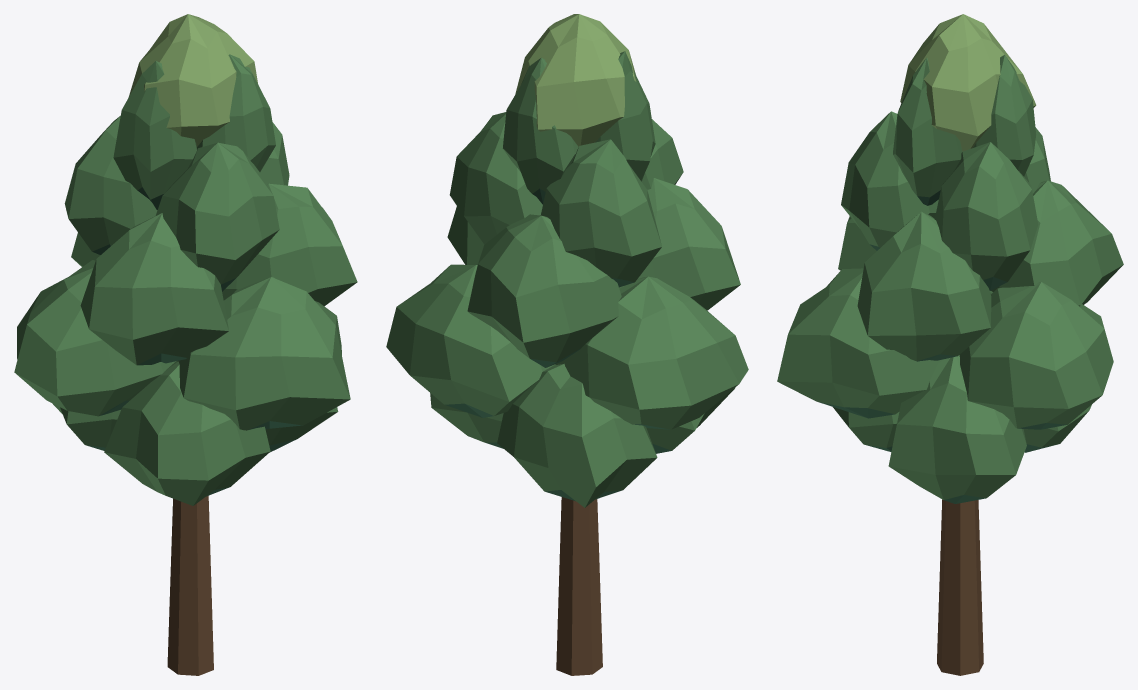
Rendered from b08_tulip_poplar.glb.
3 views of the same model, side by side, from view 1: azimuth 30°, elevation 25°; view 2: azimuth 150°, elevation 25°; view 3: azimuth 270°, elevation 25° (orthographic).
Visible parts, largest first — view 1: b08_tulip_poplar; view 2: b08_tulip_poplar; view 3: b08_tulip_poplar.
Part boxes in pixels (x1,y1,x2,y2): b08_tulip_poplar: [14, 14, 357, 675]; b08_tulip_poplar: [386, 14, 748, 675]; b08_tulip_poplar: [777, 14, 1123, 675].
Bounding box in the file's own units: 3.71 × 7.45 × 3.6.
